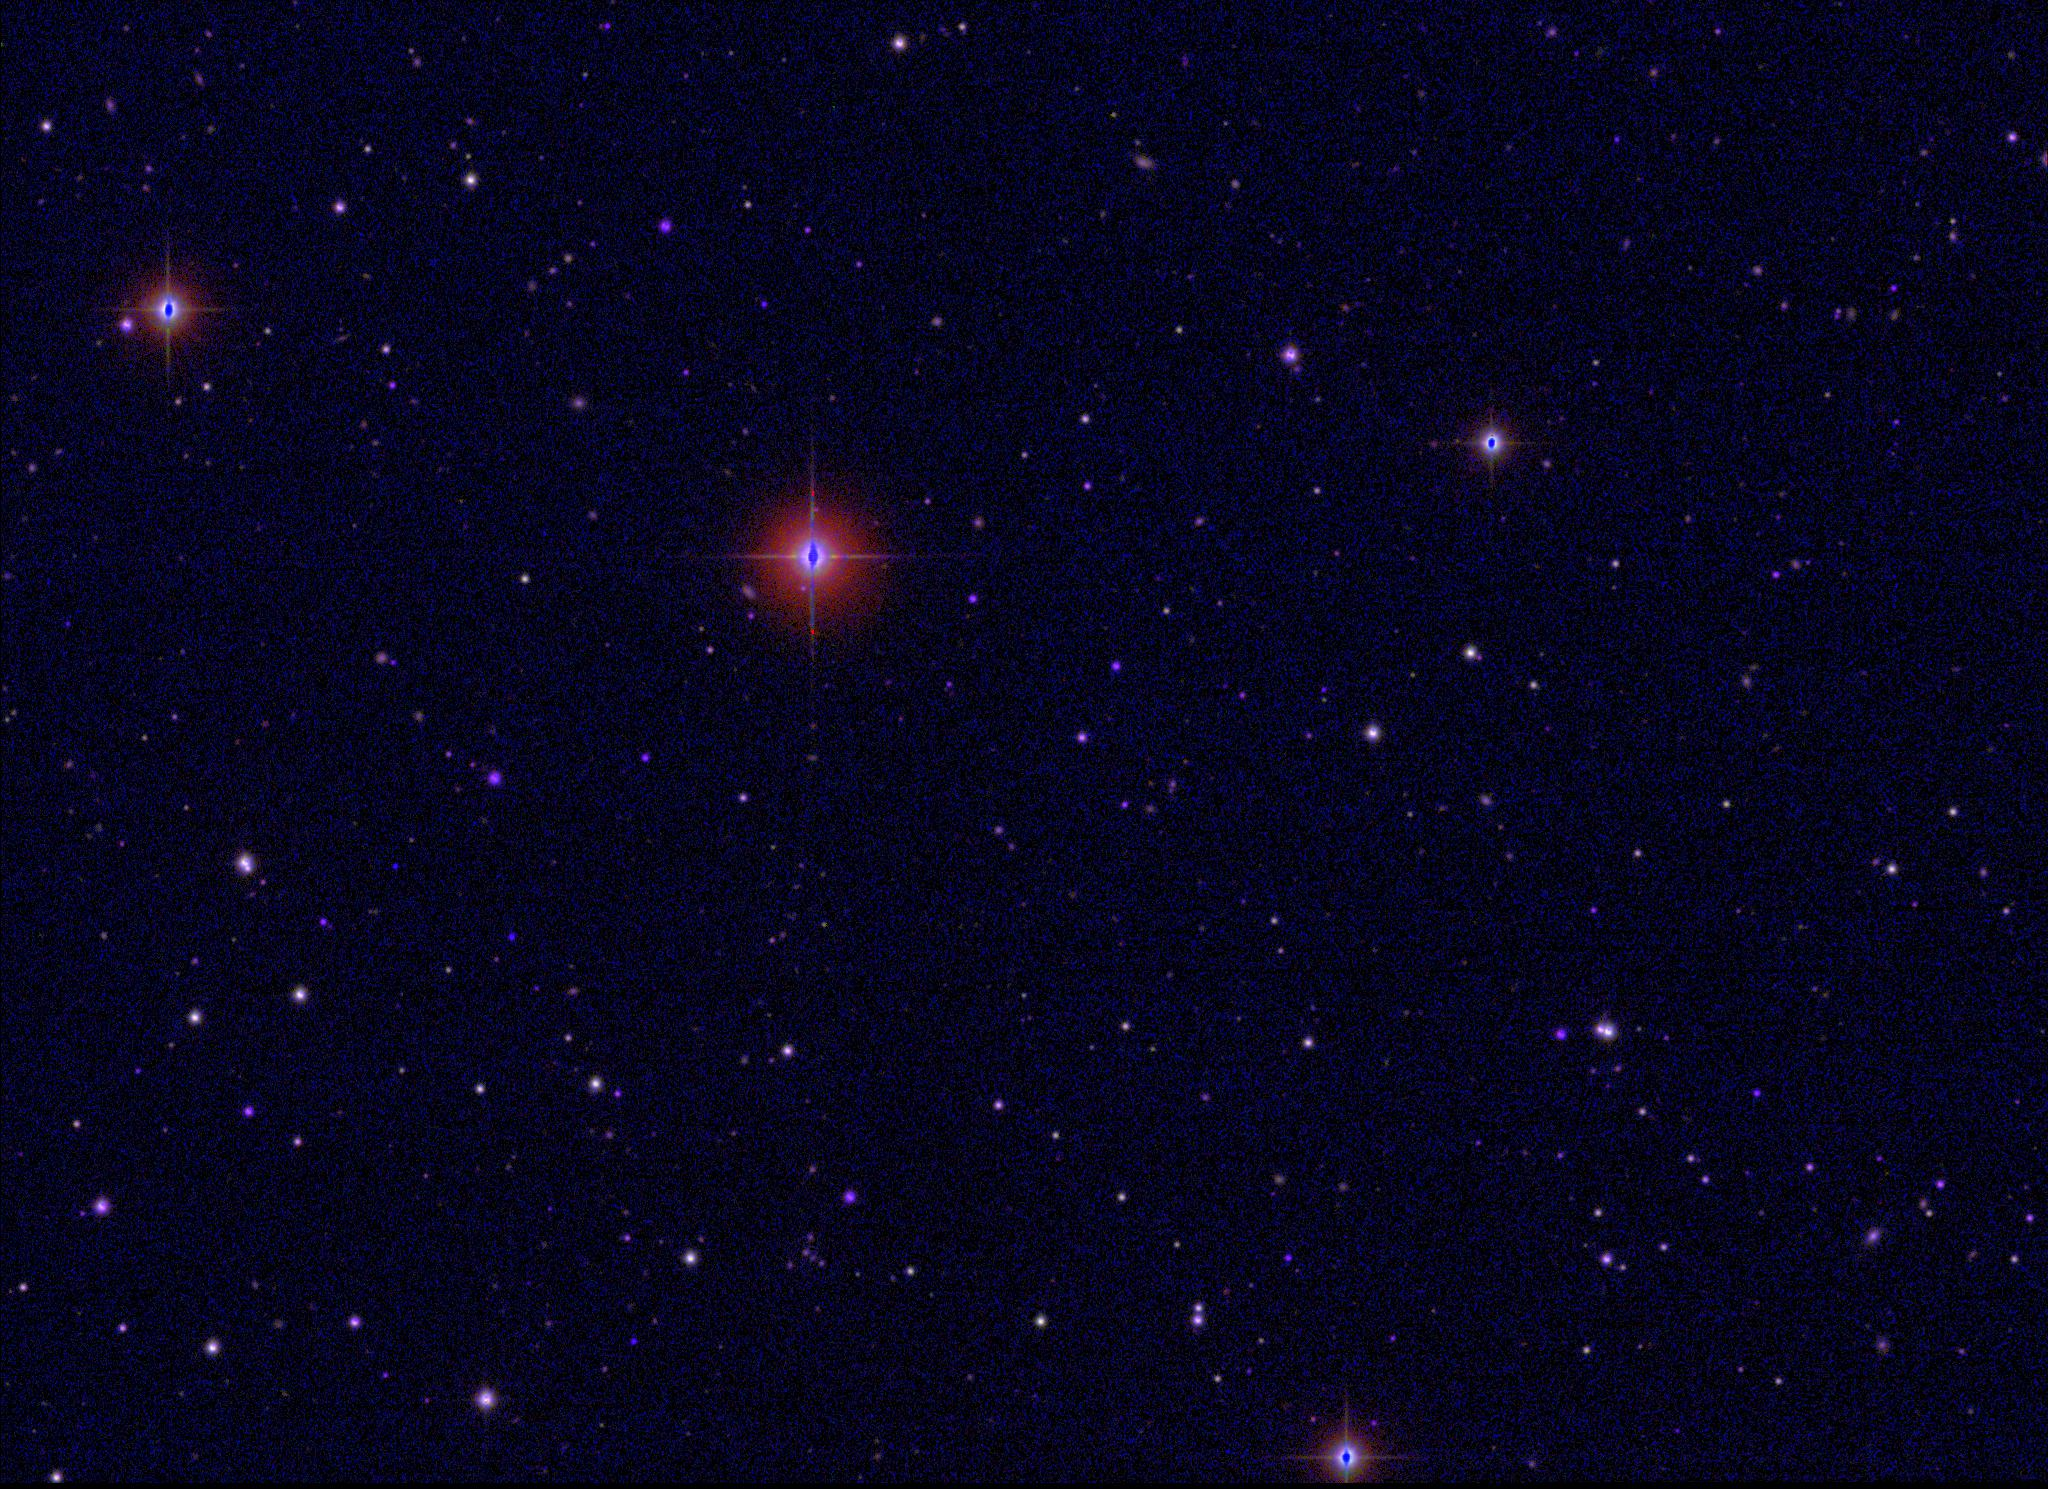L: (388, 859, 402, 873)
